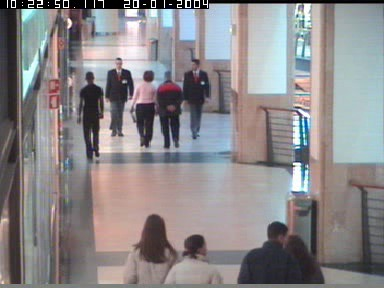person: (123, 212, 184, 284), (238, 220, 304, 284), (165, 234, 225, 284), (105, 57, 134, 137), (77, 71, 103, 160), (182, 57, 210, 139), (129, 70, 158, 146), (157, 70, 183, 148), (286, 234, 324, 284), (67, 16, 74, 53)
